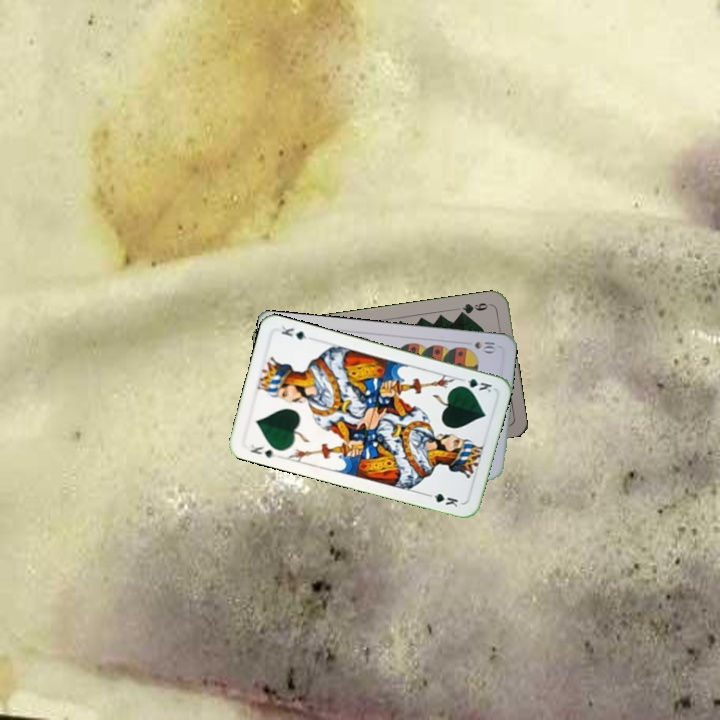G9: (455, 299, 494, 318)
GK: (455, 374, 495, 395), (247, 440, 280, 460)
S10: (471, 338, 499, 355)
